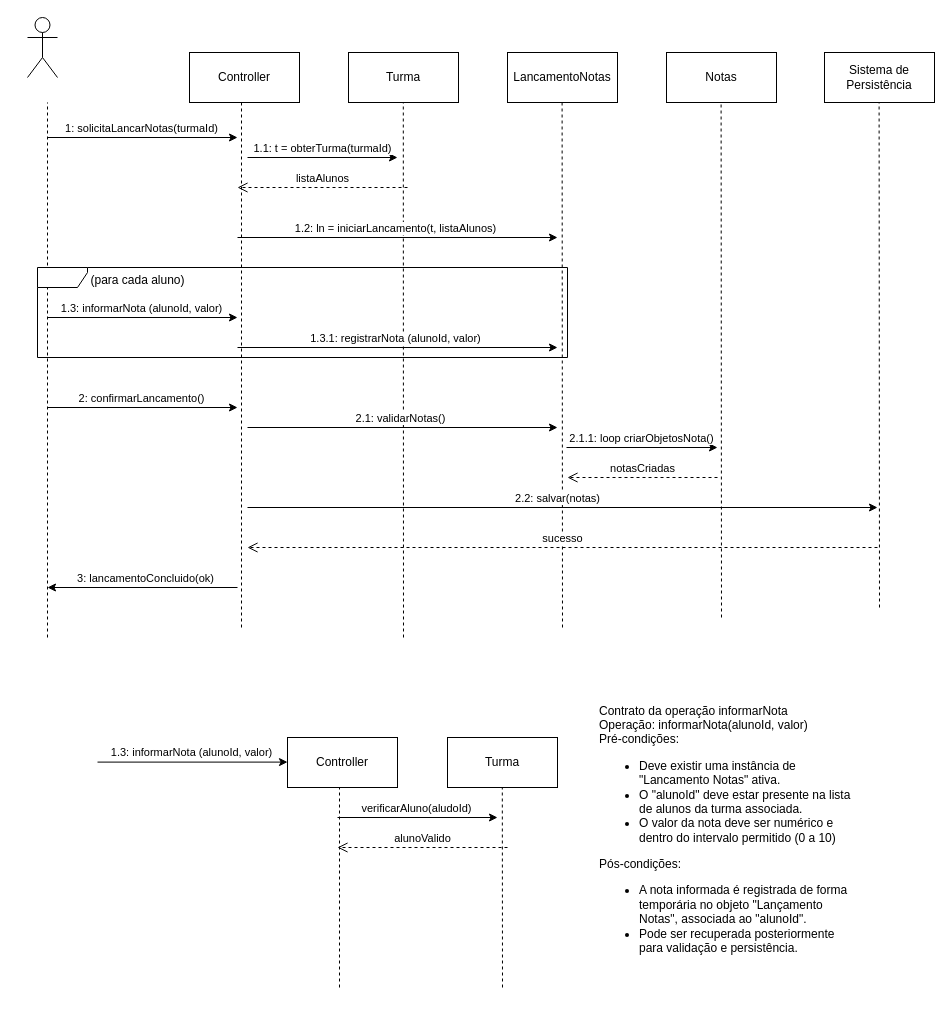
Image size: 952x1030. Some labels were removed from this diagram. The shapes that lost their labels are listed below. From the top down, each one's box as (x1, y1, x2, y2) in pixels, then its label:
(26, 16, 58, 78): Professor
(36, 266, 568, 358): loop
